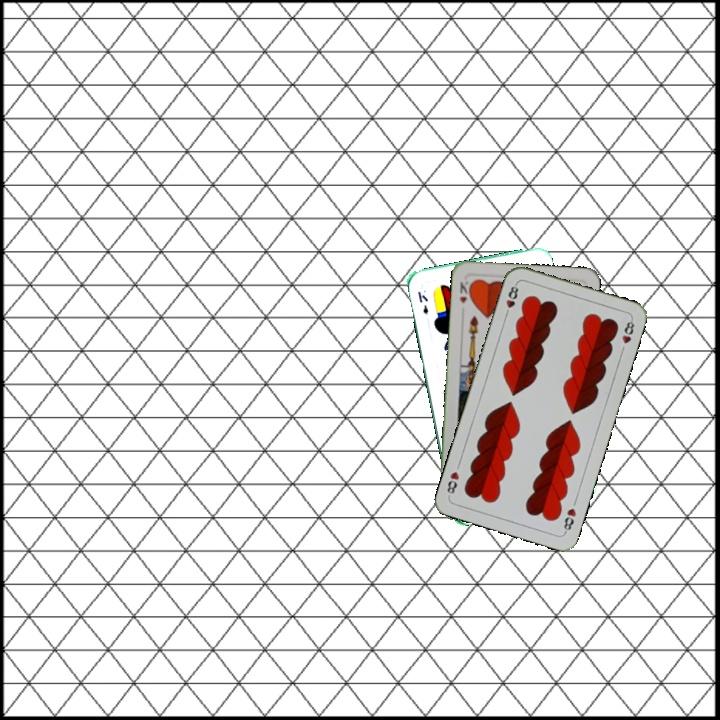EK: (414, 287, 431, 317)
H8: (501, 280, 521, 319), (559, 504, 579, 536)
HK: (455, 277, 474, 306)
